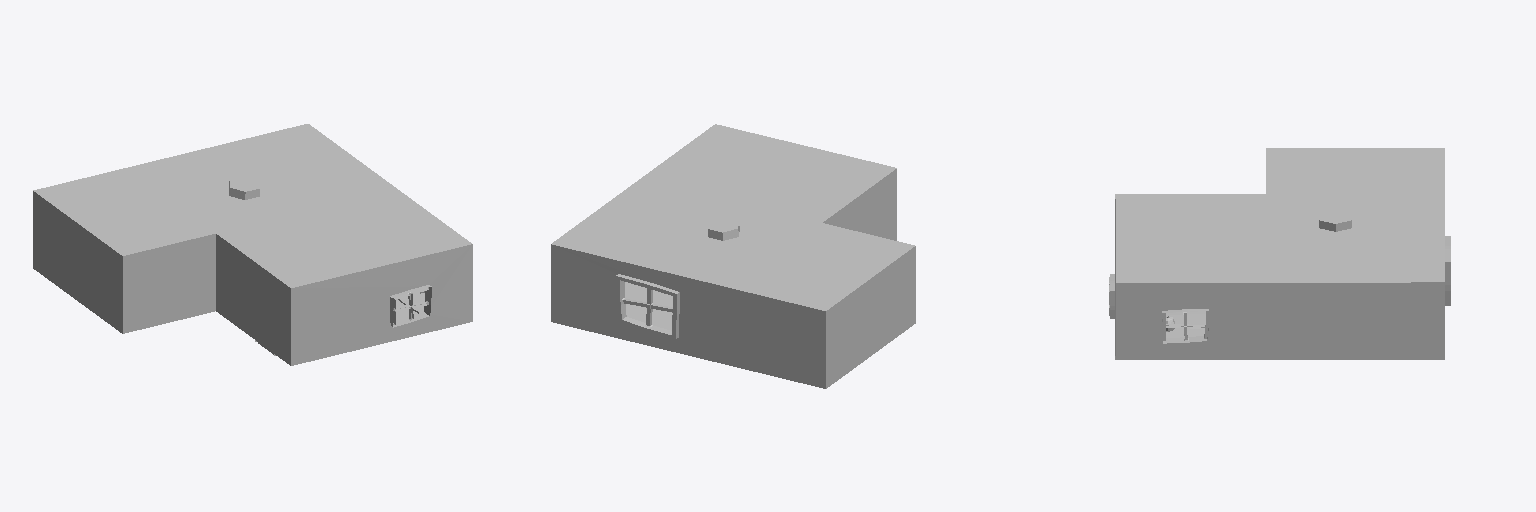
Rendered from Totaal.obj.
3 views of the same model, side by side, from view 1: azimuth 30°, elevation 25°; view 2: azimuth 150°, elevation 25°; view 3: azimuth 270°, elevation 25° (orthographic).
Parts seen in each view (by area): view 1: Huis HuisTotaal, HuisTotaal Raam1, boom; view 2: Huis HuisTotaal, boom; view 3: Huis HuisTotaal, HuisTotaal Raam, boom.
Part boxes in pixels (x1,y1,x2,y2): Huis HuisTotaal: (33,124,472,365); HuisTotaal Raam1: (390,285,431,327); boom: (229,177,259,199); Huis HuisTotaal: (551,124,915,388); boom: (708,217,739,240); Huis HuisTotaal: (1115,148,1450,359); HuisTotaal Raam: (1162,309,1208,343); boom: (1319,210,1351,231).
Size of the model in its own units: 594 by 191 by 626.